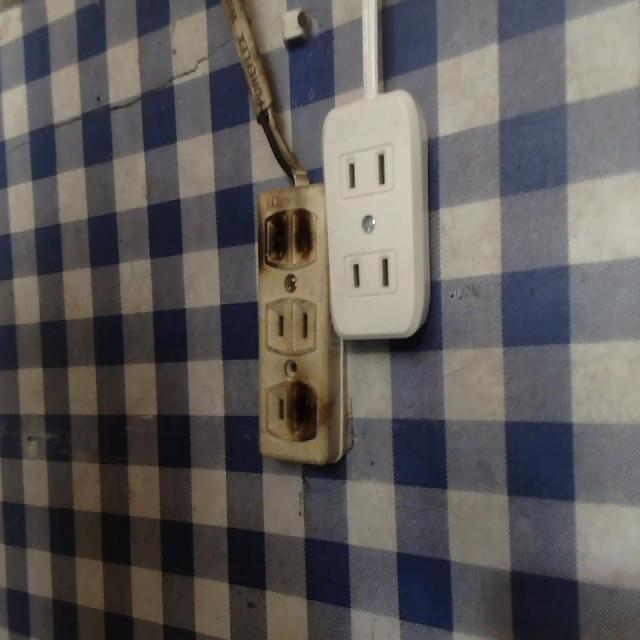-: (259, 204, 320, 273), (285, 381, 323, 448)
